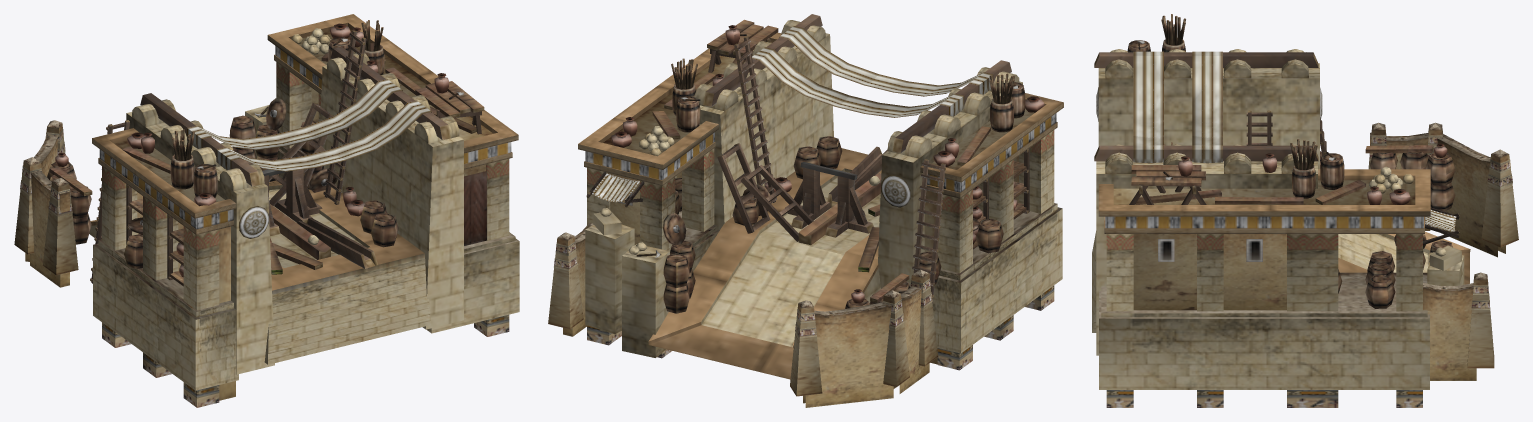
The model's file is s_ptolemies_workshop.glb.
The picture shows the model from 3 angles, left to right: view 1: azimuth 30°, elevation 25°; view 2: azimuth 150°, elevation 25°; view 3: azimuth 270°, elevation 25°; orthographic projection.
Visible parts, largest first — view 1: s_ptolemies_workshop_part0; view 2: s_ptolemies_workshop_part0; view 3: s_ptolemies_workshop_part0.
Part boxes in pixels (box(x1,y1,x2,y2)): s_ptolemies_workshop_part0: box(14, 14, 519, 407); s_ptolemies_workshop_part0: box(548, 14, 1063, 407); s_ptolemies_workshop_part0: box(1092, 14, 1518, 407).
Bounding box in the file's own units: 4.49 × 3.37 × 5.
Materials: 1 (1 with a texture image).
